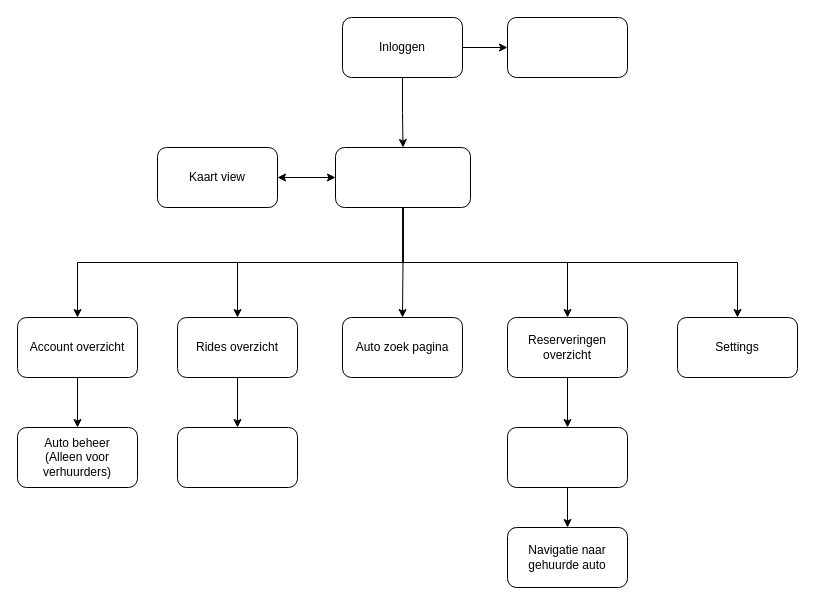
Some shapes in this 815 by 605 pixel diagram are drawn without their labels. The shapes that lost their labels are listed below. From the top down, each one's box as (x1, y1, x2, y2) in pixels, then its label:
(506, 16, 628, 78): Account aanmaken
(334, 146, 470, 208): Auto overzichtspagina
(176, 426, 298, 488): Lopende ride overzicht
(506, 426, 628, 488): Lopende reserveringen
